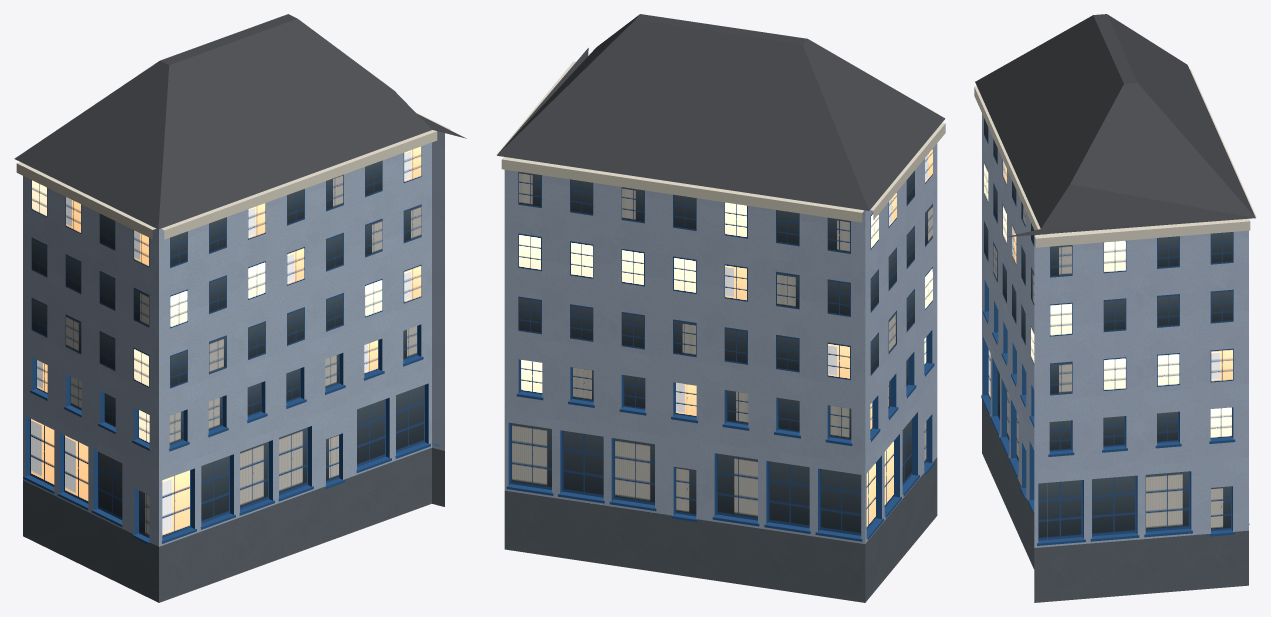
Rendered from z4_birm301.glb.
3 renders of one model, left to right at view 1: azimuth 30°, elevation 25°; view 2: azimuth 150°, elevation 25°; view 3: azimuth 270°, elevation 25°, orthographic. The views are drawn at different scales.
Visible parts, largest first — view 1: z4_birm301; view 2: z4_birm301; view 3: z4_birm301.
Part boxes in pixels (box(x1,y1,x2,y2)): z4_birm301: box(14, 14, 466, 602); z4_birm301: box(496, 14, 945, 602); z4_birm301: box(974, 14, 1256, 602).
Size of the model in its own units: 20.22 by 25.66 by 13.98.
3 materials, 3 textured.
